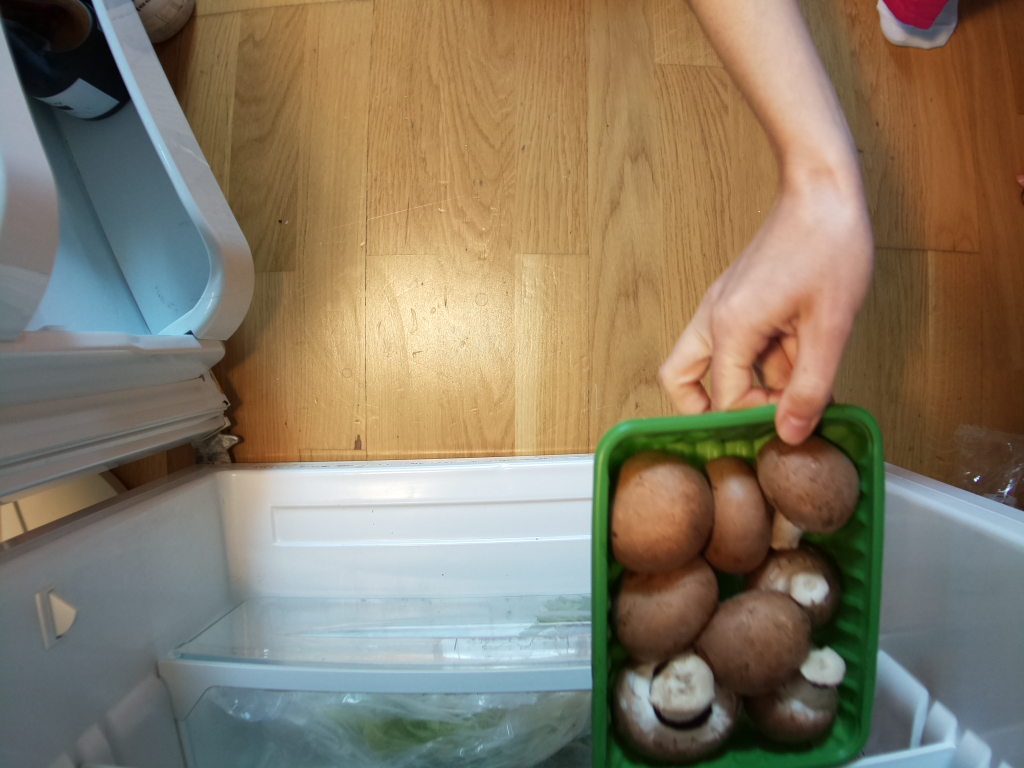mushrooms: (585, 407, 885, 768)
